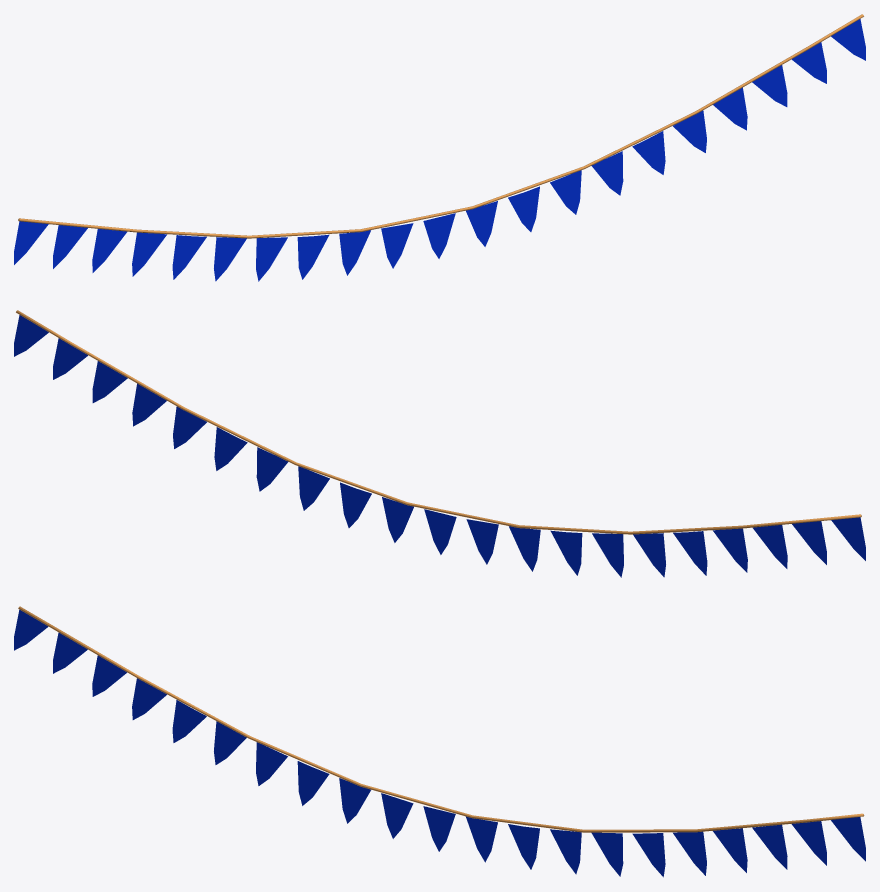
File: Bandeiras na corda.fbx
3 views of the same model, one above another, from view 1: azimuth 30°, elevation 25°; view 2: azimuth 150°, elevation 25°; view 3: azimuth 330°, elevation 25° (orthographic).
Visible parts, largest first — view 1: NurbsPath; view 2: NurbsPath; view 3: NurbsPath.
Part boxes in pixels (x1=…): NurbsPath: x1=14, y1=14, x2=865, y2=281; NurbsPath: x1=14, y1=310, x2=865, y2=577; NurbsPath: x1=14, y1=606, x2=865, y2=877.
Bounding box in the file's own units: 1150 × 185 × 3.49.
